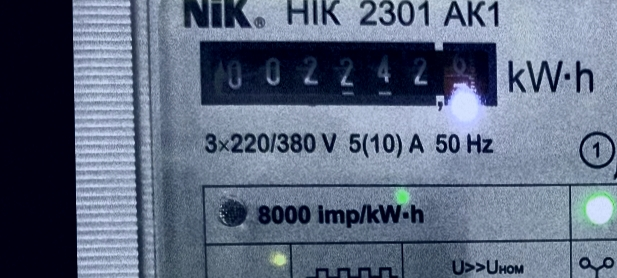0: (224, 58, 244, 91), (262, 55, 281, 88)
2: (336, 55, 355, 89), (300, 54, 319, 87), (411, 55, 428, 87)
4: (375, 52, 391, 85)
6: (450, 49, 466, 76)
screen: (188, 26, 507, 121)
